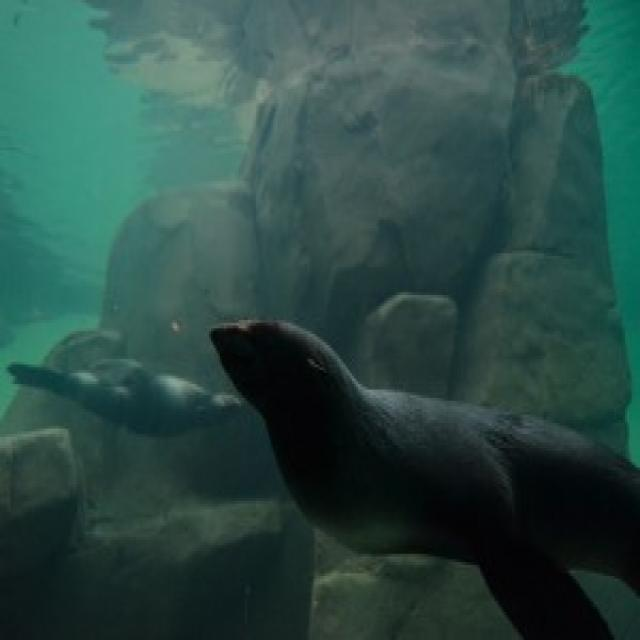Seal: (214, 304, 636, 636), (20, 342, 239, 438)
